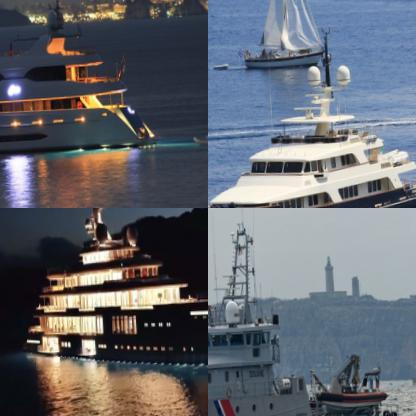Patrol Boat: (208, 208, 405, 415)
Sails Boat: (236, 0, 326, 72)
Yacht: (208, 19, 415, 207), (18, 208, 207, 379), (0, 0, 158, 164)
